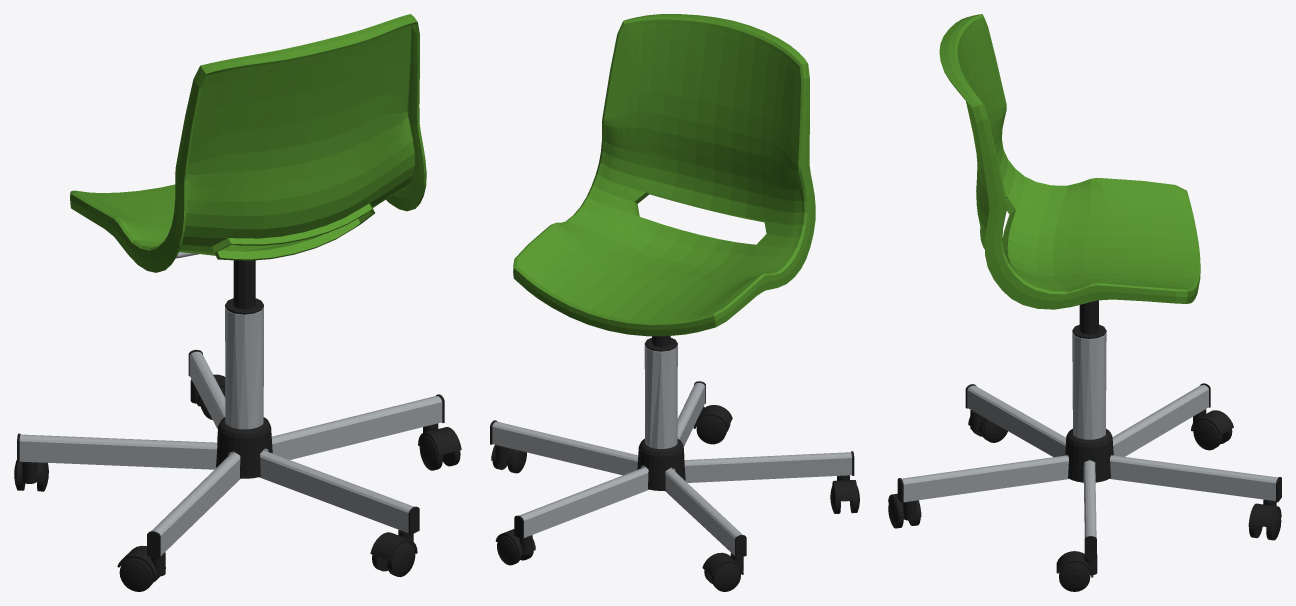
3 views of the same model, side by side, from view 1: azimuth 30°, elevation 25°; view 2: azimuth 150°, elevation 25°; view 3: azimuth 270°, elevation 25° (orthographic). The views are drawn at different scales.
Parts seen in each view (by area): view 1: Mesh2 Group2 SNILLE_IKEA1 Model, Mesh8 Group6 SNILLE_IKEA1 Model, Mesh7 Group5 SNILLE_IKEA1 Model, Mesh1 Group1 SNILLE_IKEA1 Model, Mesh3 Group3 SNILLE_IKEA1 Model, Mesh20 ROULETTE4 SNILLE_IKEA1 Model, Mesh15 ROULETTE3 SNILLE_IKEA1 Model, Mesh12 ROULETTE2 SNILLE_IKEA1 Model, Mesh14 ROULETTE2 SNILLE_IKEA1 Model, Mesh18 ROULETTE4 SNILLE_IKEA1 Model; view 2: Mesh2 Group2 SNILLE_IKEA1 Model, Mesh8 Group6 SNILLE_IKEA1 Model, Mesh7 Group5 SNILLE_IKEA1 Model, Mesh1 Group1 SNILLE_IKEA1 Model, Mesh13 ROULETTE2 SNILLE_IKEA1 Model, Mesh11 ROULETTE1 SNILLE_IKEA1 Model, Mesh18 ROULETTE4 SNILLE_IKEA1 Model, Mesh9 ROULETTE1 SNILLE_IKEA1 Model, Mesh23 ROULETTE5 SNILLE_IKEA1 Model; view 3: Mesh2 Group2 SNILLE_IKEA1 Model, Mesh8 Group6 SNILLE_IKEA1 Model, Mesh7 Group5 SNILLE_IKEA1 Model, Mesh1 Group1 SNILLE_IKEA1 Model, Mesh3 Group3 SNILLE_IKEA1 Model, Mesh17 ROULETTE3 SNILLE_IKEA1 Model, Mesh10 ROULETTE1 SNILLE_IKEA1 Model, Mesh21 ROULETTE5 SNILLE_IKEA1 Model, Mesh9 ROULETTE1 SNILLE_IKEA1 Model, Mesh15 ROULETTE3 SNILLE_IKEA1 Model.
Part boxes in pixels (<box>): Mesh2 Group2 SNILLE_IKEA1 Model: <box>70,14,426,272</box>; Mesh8 Group6 SNILLE_IKEA1 Model: <box>17,349,444,558</box>; Mesh7 Group5 SNILLE_IKEA1 Model: <box>225,307,263,429</box>; Mesh1 Group1 SNILLE_IKEA1 Model: <box>216,417,272,478</box>; Mesh3 Group3 SNILLE_IKEA1 Model: <box>225,260,263,314</box>; Mesh20 ROULETTE4 SNILLE_IKEA1 Model: <box>119,558,154,591</box>; Mesh15 ROULETTE3 SNILLE_IKEA1 Model: <box>418,423,461,455</box>; Mesh12 ROULETTE2 SNILLE_IKEA1 Model: <box>370,530,417,561</box>; Mesh14 ROULETTE2 SNILLE_IKEA1 Model: <box>387,542,415,577</box>; Mesh18 ROULETTE4 SNILLE_IKEA1 Model: <box>117,545,165,578</box>; Mesh2 Group2 SNILLE_IKEA1 Model: <box>513,14,815,336</box>; Mesh8 Group6 SNILLE_IKEA1 Model: <box>490,381,854,557</box>; Mesh7 Group5 SNILLE_IKEA1 Model: <box>644,345,677,448</box>; Mesh1 Group1 SNILLE_IKEA1 Model: <box>637,438,685,490</box>; Mesh13 ROULETTE2 SNILLE_IKEA1 Model: <box>696,415,726,444</box>; Mesh11 ROULETTE1 SNILLE_IKEA1 Model: <box>711,563,740,591</box>; Mesh18 ROULETTE4 SNILLE_IKEA1 Model: <box>832,475,857,501</box>; Mesh9 ROULETTE1 SNILLE_IKEA1 Model: <box>702,552,743,576</box>; Mesh23 ROULETTE5 SNILLE_IKEA1 Model: <box>497,535,520,565</box>; Mesh2 Group2 SNILLE_IKEA1 Model: <box>939,14,1200,309</box>; Mesh8 Group6 SNILLE_IKEA1 Model: <box>897,383,1281,558</box>; Mesh7 Group5 SNILLE_IKEA1 Model: <box>1072,332,1106,439</box>; Mesh1 Group1 SNILLE_IKEA1 Model: <box>1065,428,1113,482</box>; Mesh3 Group3 SNILLE_IKEA1 Model: <box>1072,300,1106,338</box>; Mesh17 ROULETTE3 SNILLE_IKEA1 Model: <box>1059,562,1090,591</box>; Mesh10 ROULETTE1 SNILLE_IKEA1 Model: <box>1193,420,1221,450</box>; Mesh21 ROULETTE5 SNILLE_IKEA1 Model: <box>1248,499,1281,527</box>; Mesh9 ROULETTE1 SNILLE_IKEA1 Model: <box>1191,409,1233,435</box>; Mesh15 ROULETTE3 SNILLE_IKEA1 Model: <box>1056,551,1097,577</box>.
Size of the model in its own units: 0.5844 by 0.7643 by 0.596.
